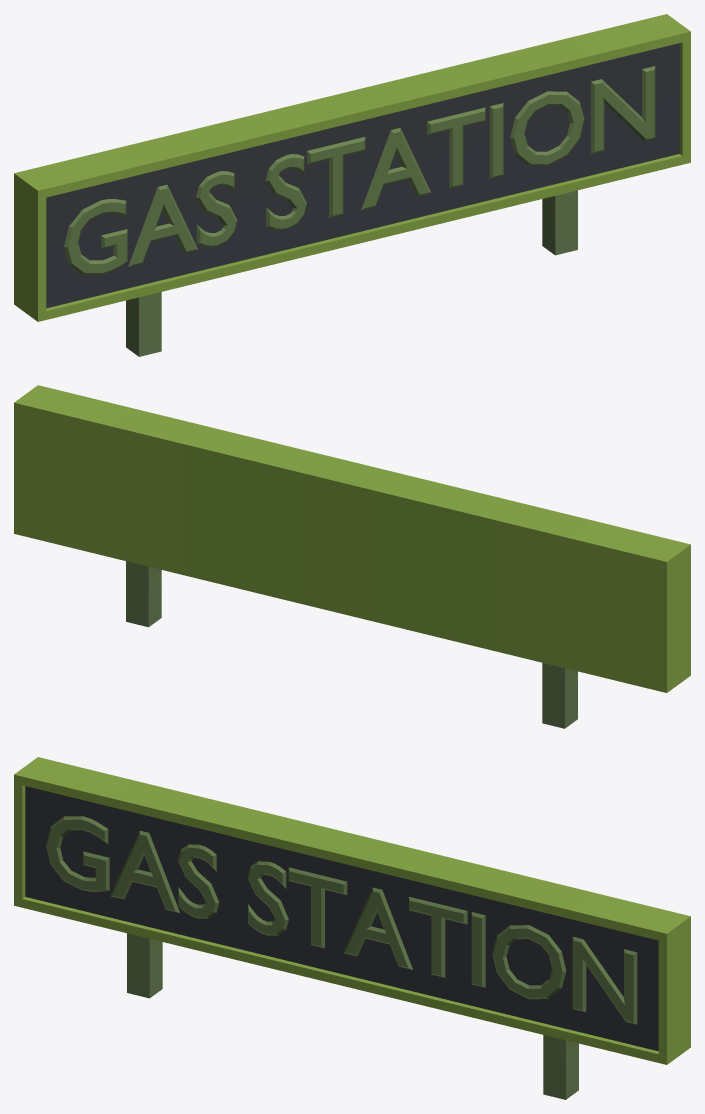
The model's file is Banner_25.fbx.
3 views of the same model, one above another, from view 1: azimuth 30°, elevation 25°; view 2: azimuth 150°, elevation 25°; view 3: azimuth 330°, elevation 25° (orthographic).
Visible parts, largest first — view 1: Banner_25; view 2: Banner_25; view 3: Banner_25.
Part boxes in pixels (x1,y1,x2,y2): Banner_25: (14, 14, 690, 356); Banner_25: (14, 385, 690, 728); Banner_25: (14, 757, 690, 1099).
Size of the model in its own units: 4.39 by 1.26 by 0.2801.
